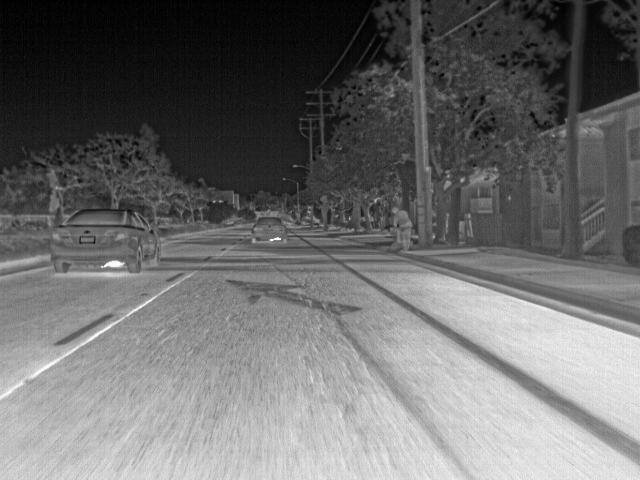car: (51, 206, 160, 274), (250, 216, 288, 246)
person: (393, 207, 414, 248)
